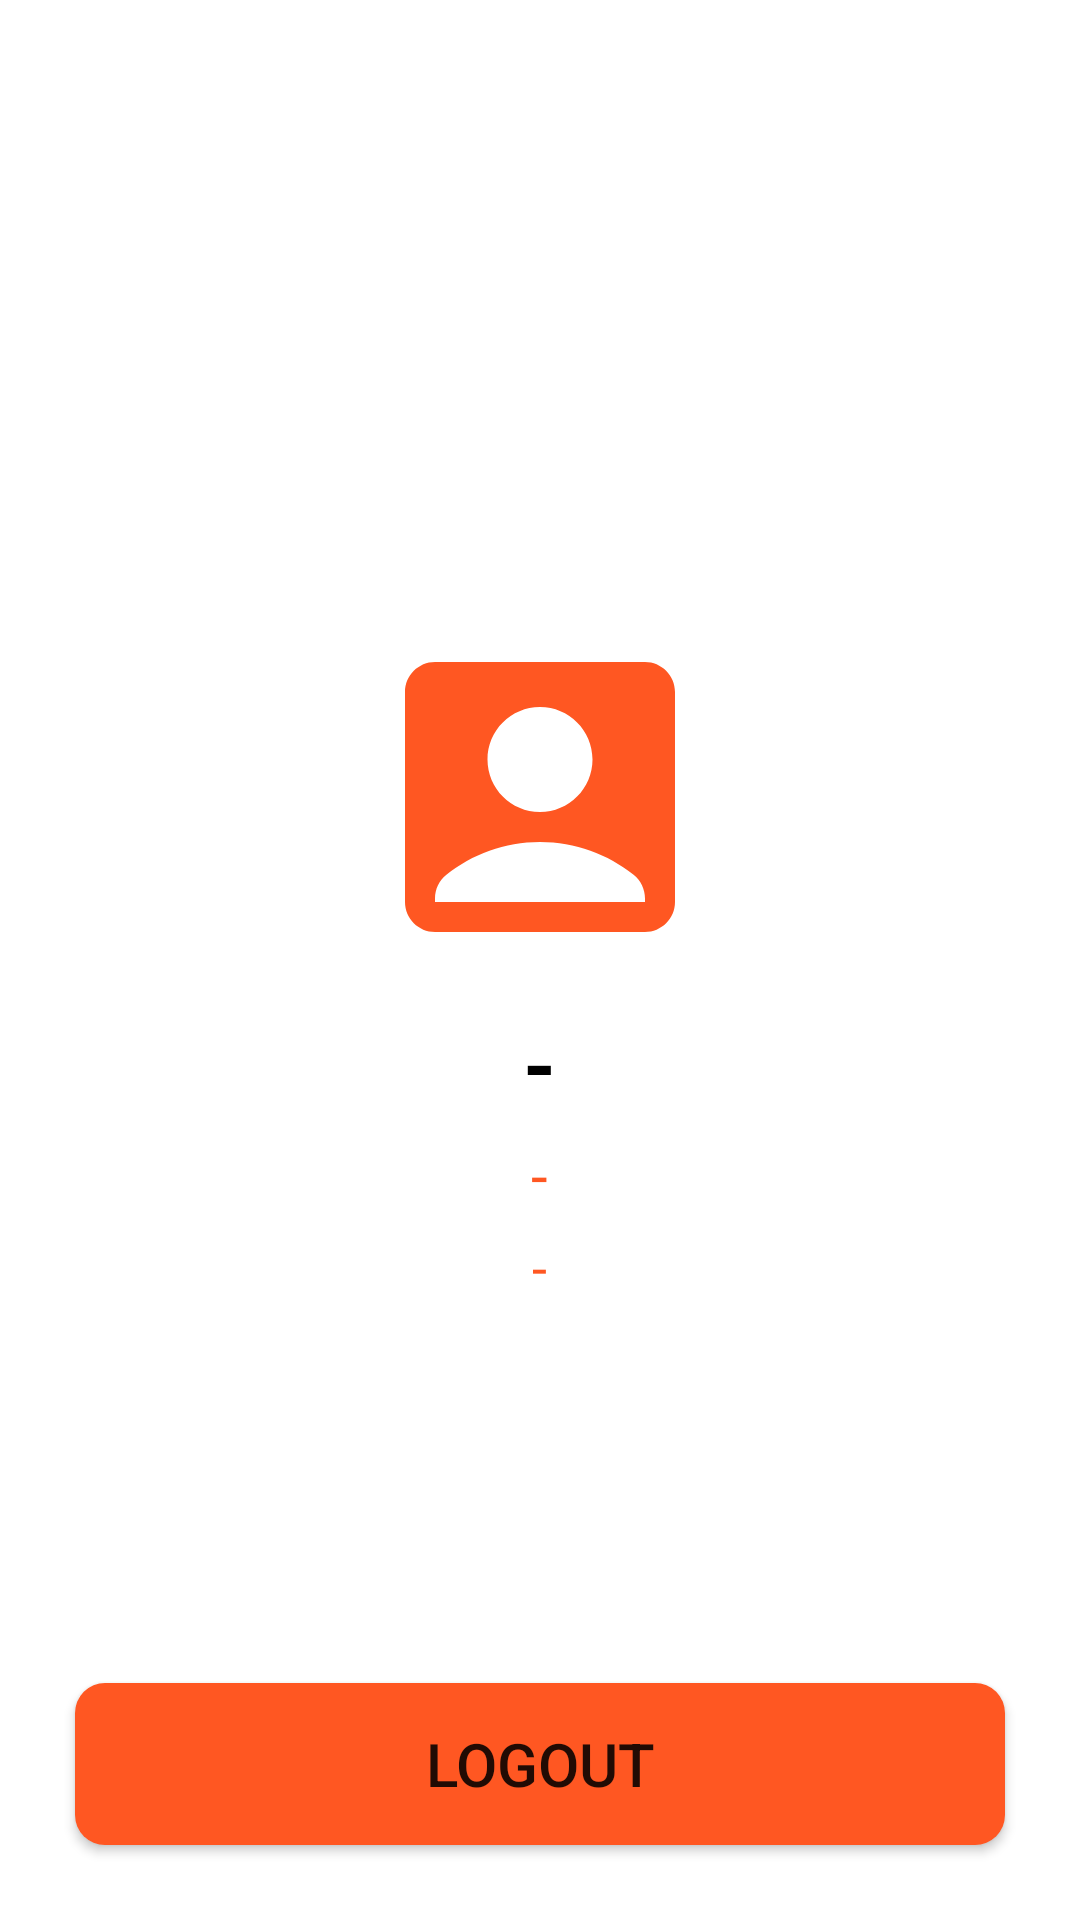

Where to tap for icons on this 1080px x 1920px app screen, as point (x, y):
account box: point (540, 797)
